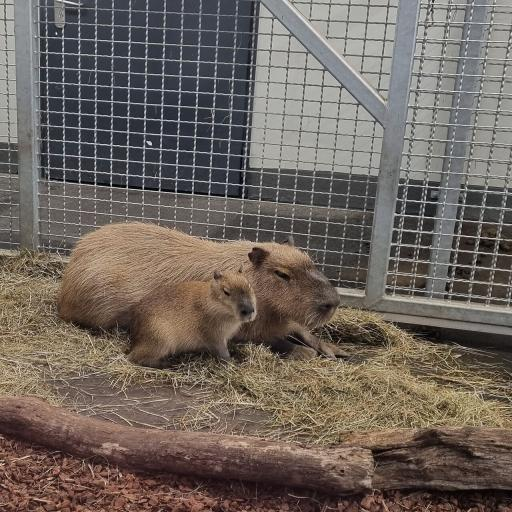capybara: (59, 222, 347, 358), (129, 266, 255, 368)
